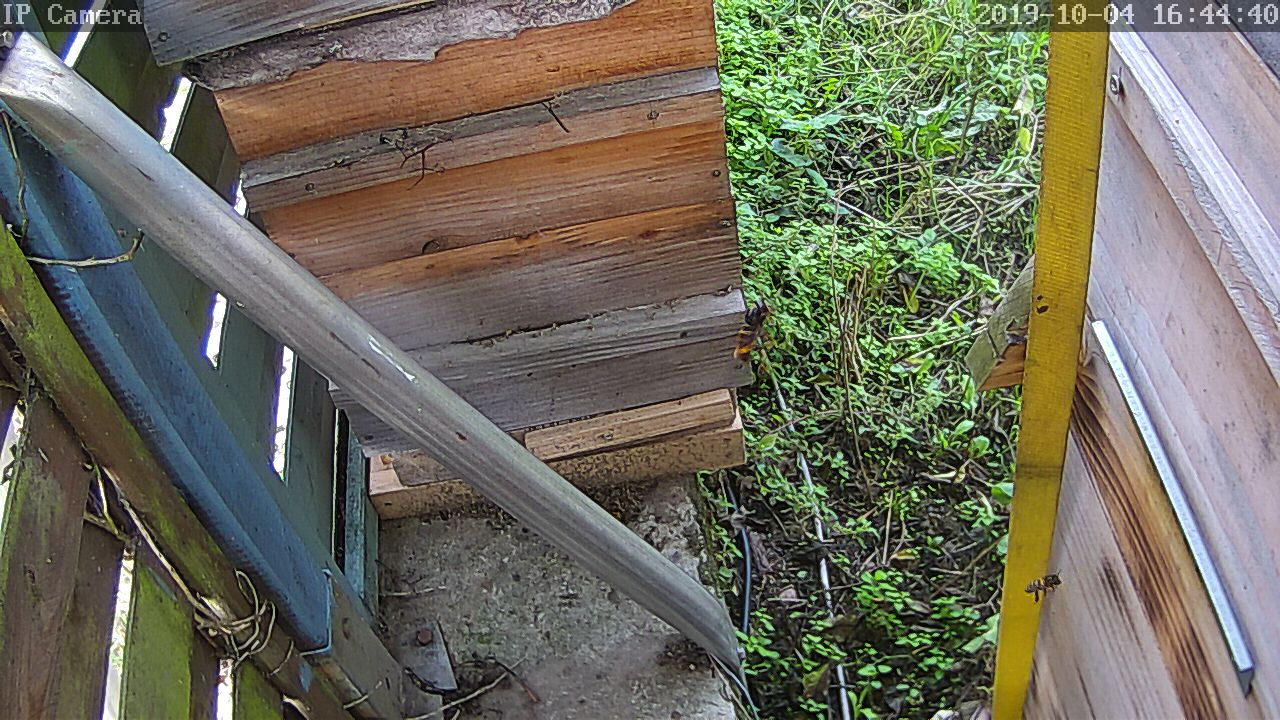bee: (1021, 570, 1070, 603)
hornet: (722, 302, 776, 373)
